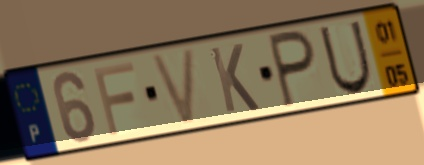6: (49, 67, 99, 145)
F: (90, 59, 137, 138)
K: (206, 41, 263, 116)
P: (265, 27, 318, 111)
U: (316, 18, 375, 98)
V: (147, 44, 199, 129)
